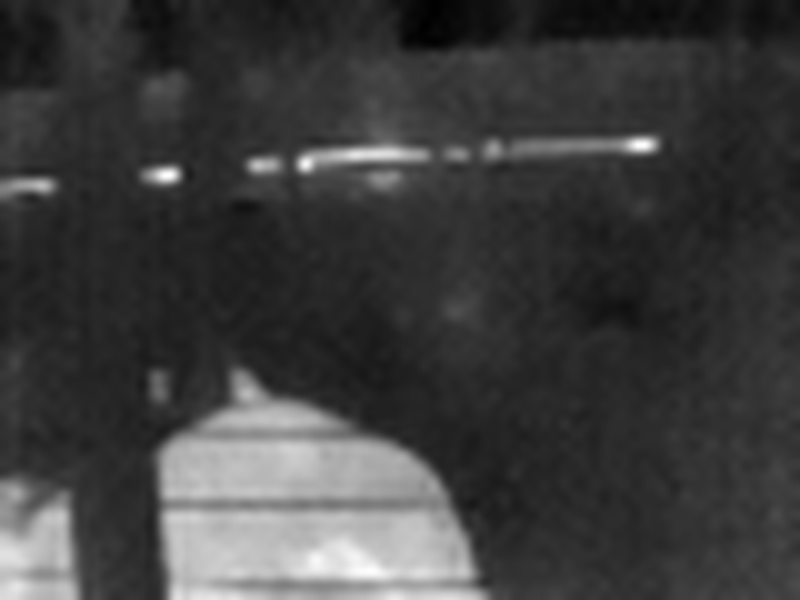elephant: (6, 378, 525, 600)
